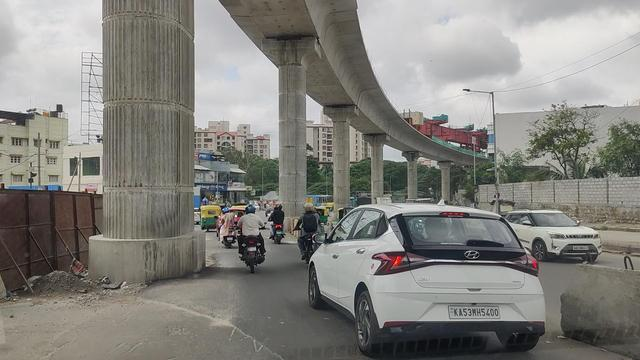LMV: (312, 201, 541, 346), (241, 209, 264, 266)
RoadDamages: (169, 287, 285, 360), (38, 293, 138, 360)
